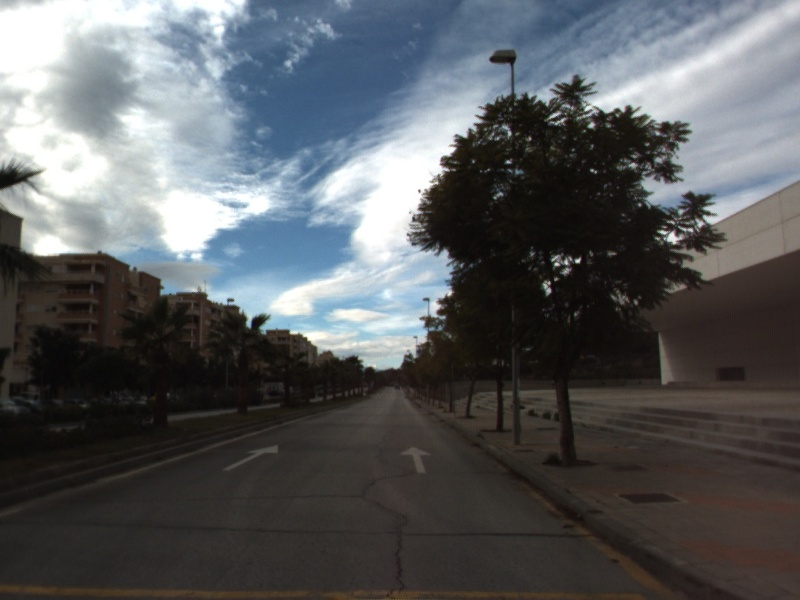STRAIGHT: (221, 442, 280, 472), (398, 444, 434, 475)
